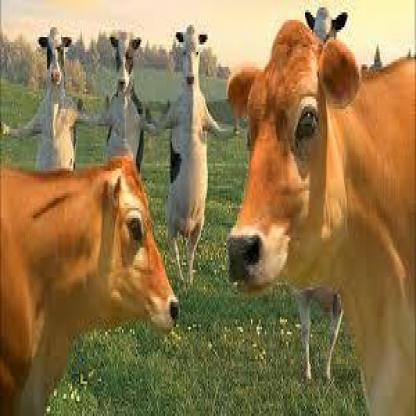cow: (230, 20, 416, 416), (0, 161, 180, 416), (145, 24, 235, 288), (0, 27, 103, 171), (101, 31, 168, 172), (294, 6, 352, 58)
